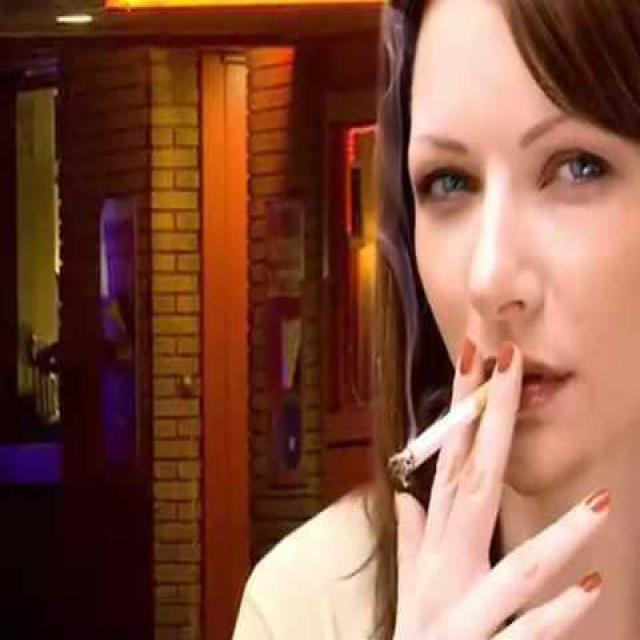smoke: (377, 366, 507, 503)
